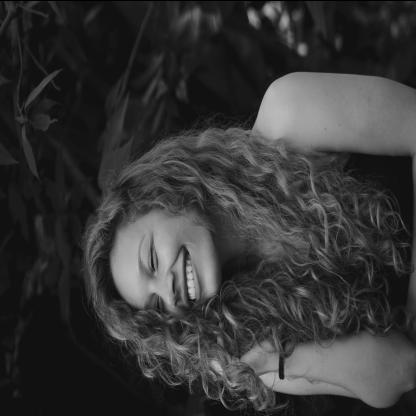Eye: (148, 239, 158, 273), (153, 294, 164, 311)
Mouth: (182, 245, 202, 306)
Nose: (152, 271, 179, 307)
